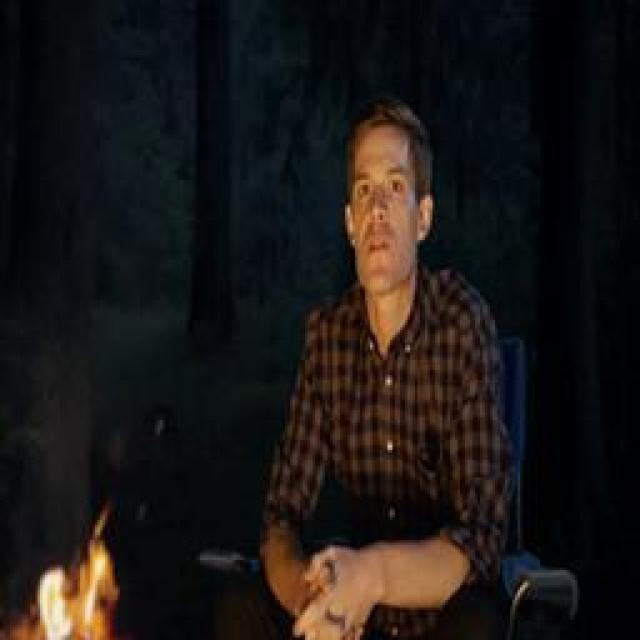Fire: (10, 507, 120, 640)
